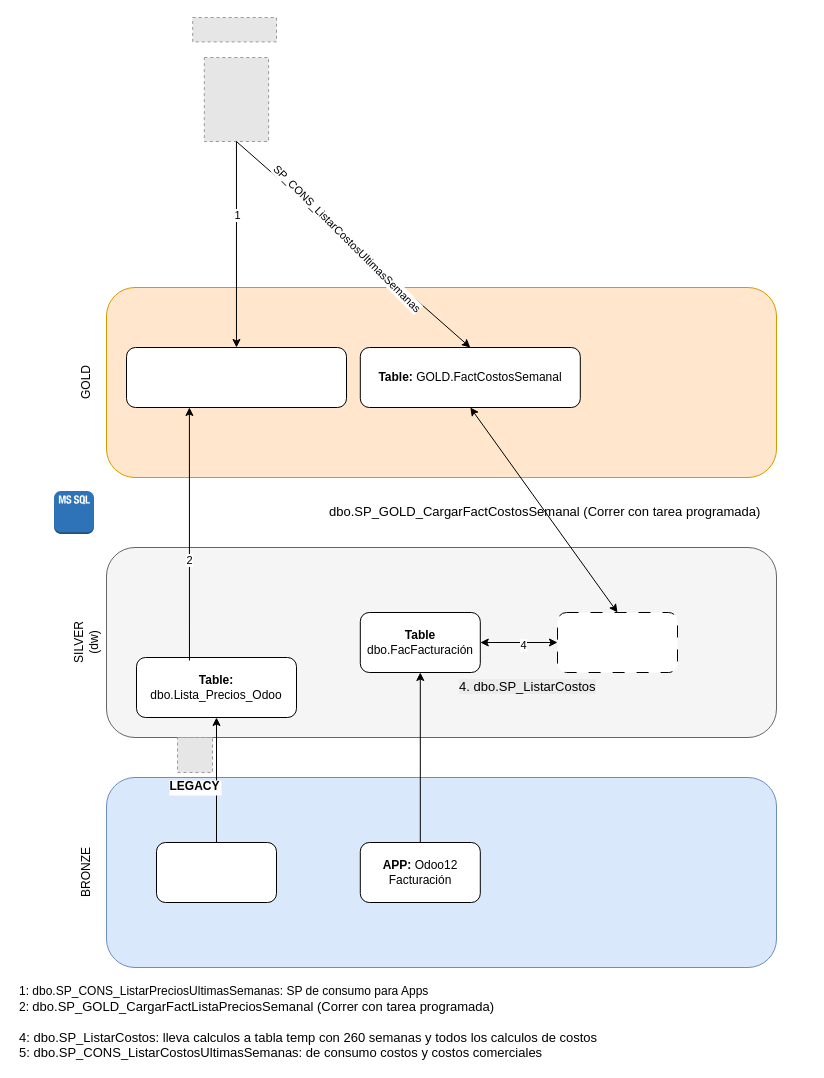
This 824x1078 diagram has some shape labels left out. Grey dashed boxes stand in for pictures. Each missing label, with the centre of its shape:
"APP: Odoo12 Listas de Precios" goes at point 216,872.
"Table Temp: CostosBase#" goes at point 617,642.
"Table: GOLD.FactListaPreciosSemanal" goes at point 236,377.
